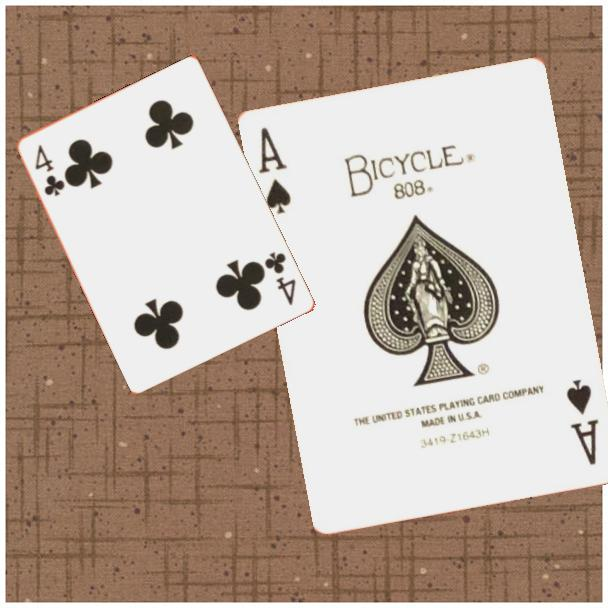c04: (261, 248, 299, 309), (32, 141, 68, 199)
s01: (254, 123, 294, 217), (562, 375, 601, 468)
